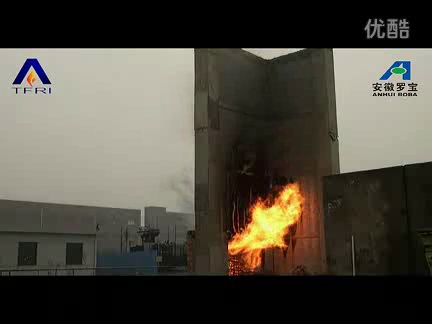fire: (221, 178, 307, 272)
